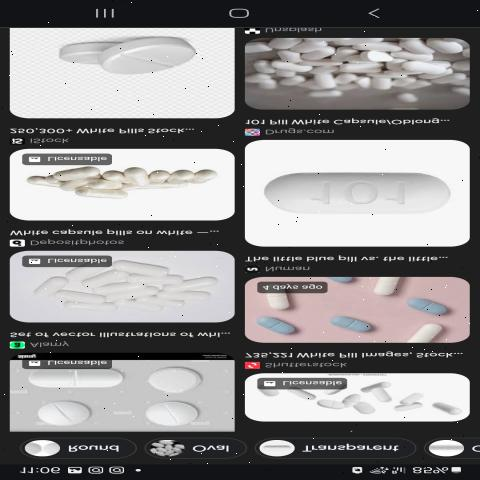Pill: (262, 155, 459, 226), (98, 34, 216, 89), (17, 367, 142, 394), (126, 398, 228, 427), (136, 364, 228, 395), (26, 399, 108, 425), (400, 320, 463, 343), (366, 275, 414, 300)
